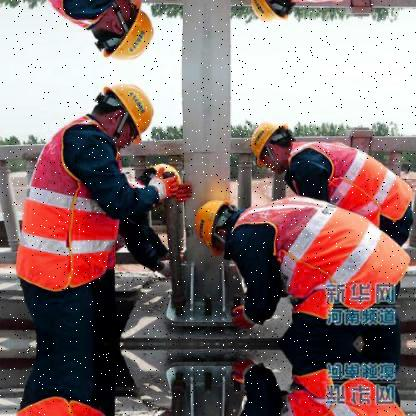Helmet: (84, 81, 160, 156), (84, 0, 158, 63), (252, 110, 312, 181), (199, 196, 252, 253), (244, 0, 310, 33)
